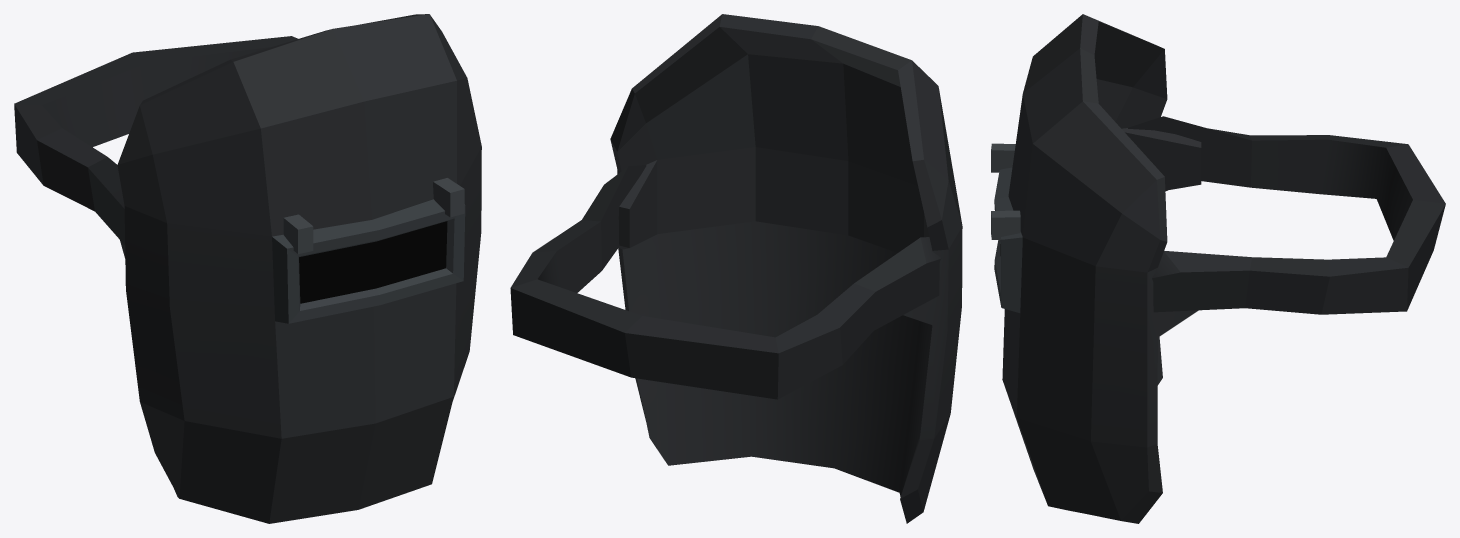
The model's file is SM_Chr_Attach_WelderMask_01.glb.
3 views of the same model, side by side, from view 1: azimuth 30°, elevation 25°; view 2: azimuth 150°, elevation 25°; view 3: azimuth 270°, elevation 25° (orthographic). The views are drawn at different scales.
Visible parts, largest first — view 1: SM_Chr_Attach_WelderMask_Shield_01, SM_Chr_Attach_WelderMask_01; view 2: SM_Chr_Attach_WelderMask_Shield_01, SM_Chr_Attach_WelderMask_01; view 3: SM_Chr_Attach_WelderMask_Shield_01, SM_Chr_Attach_WelderMask_01.
Boxes of the visible parts, x1,y1,x2,y2 form: SM_Chr_Attach_WelderMask_Shield_01: [117, 14, 481, 523]; SM_Chr_Attach_WelderMask_01: [14, 36, 297, 245]; SM_Chr_Attach_WelderMask_Shield_01: [610, 14, 962, 523]; SM_Chr_Attach_WelderMask_01: [510, 165, 941, 399]; SM_Chr_Attach_WelderMask_Shield_01: [991, 14, 1201, 523]; SM_Chr_Attach_WelderMask_01: [1128, 116, 1445, 314].
Size of the model in its own units: 0.2915 by 0.381 by 0.3671.
Materials: 1 (1 with a texture image).
